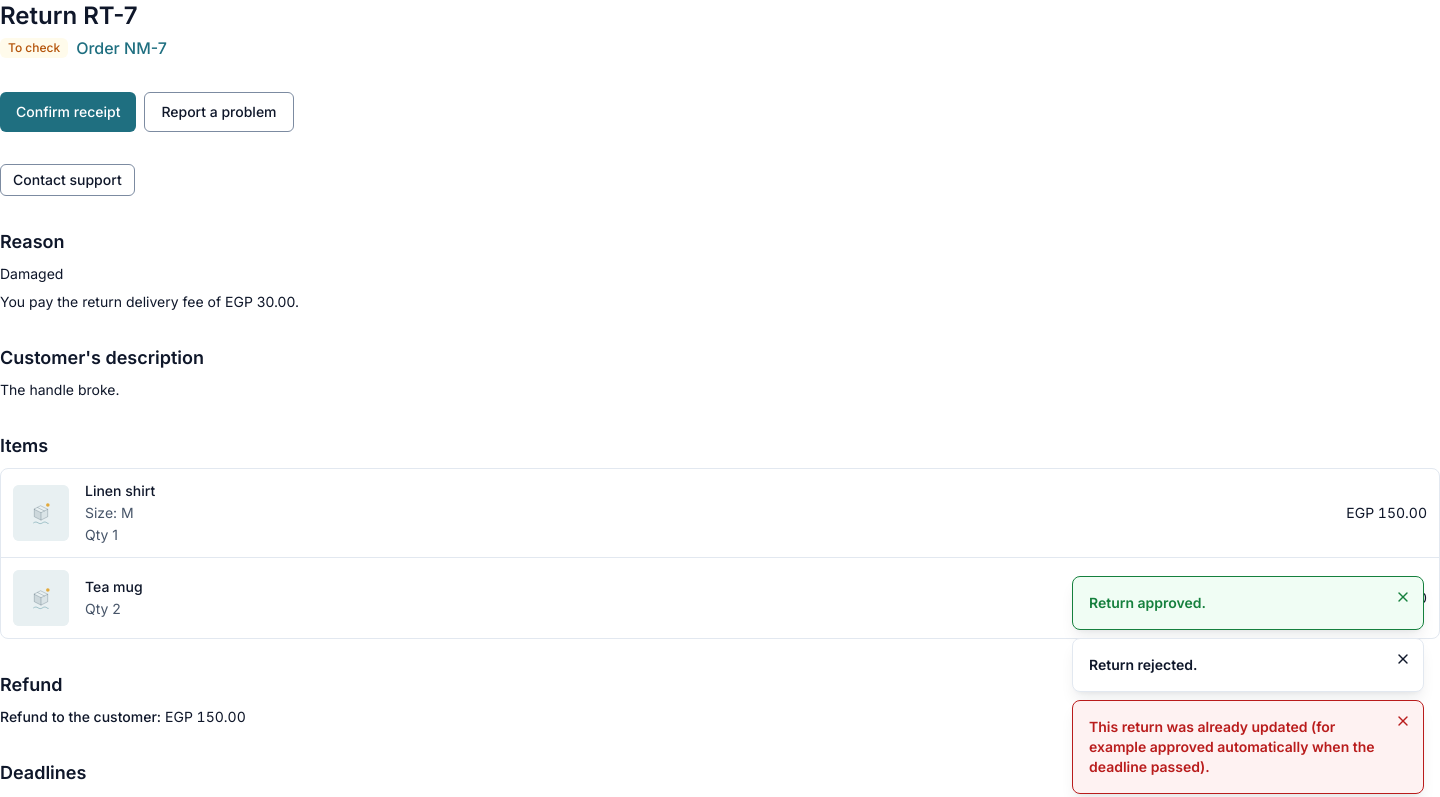
return detail (spec 02 SE-19) › Confirm receipt: every item once, restock on by default; a retry reuses the key
Click the button "Confirm receipt".
click(68, 112)  # box [0,92,136,132]
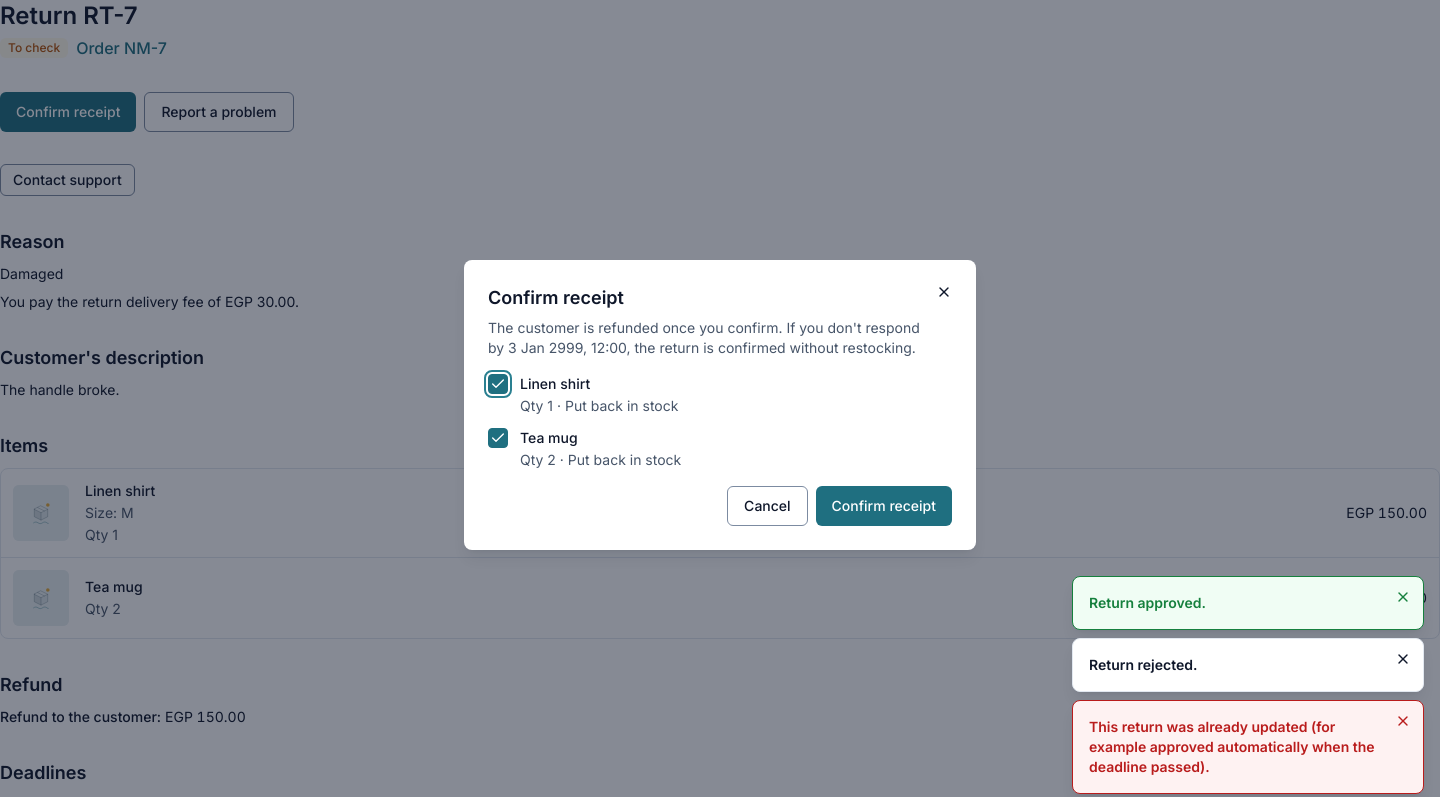
Expected: the text "The customer is refunded once you confirm. If you don't respond by " is shown, [488,319,920,356]
Click the checkbox named "Put Tea mug back in stock".
click(498, 438)  # box [488,428,508,448]
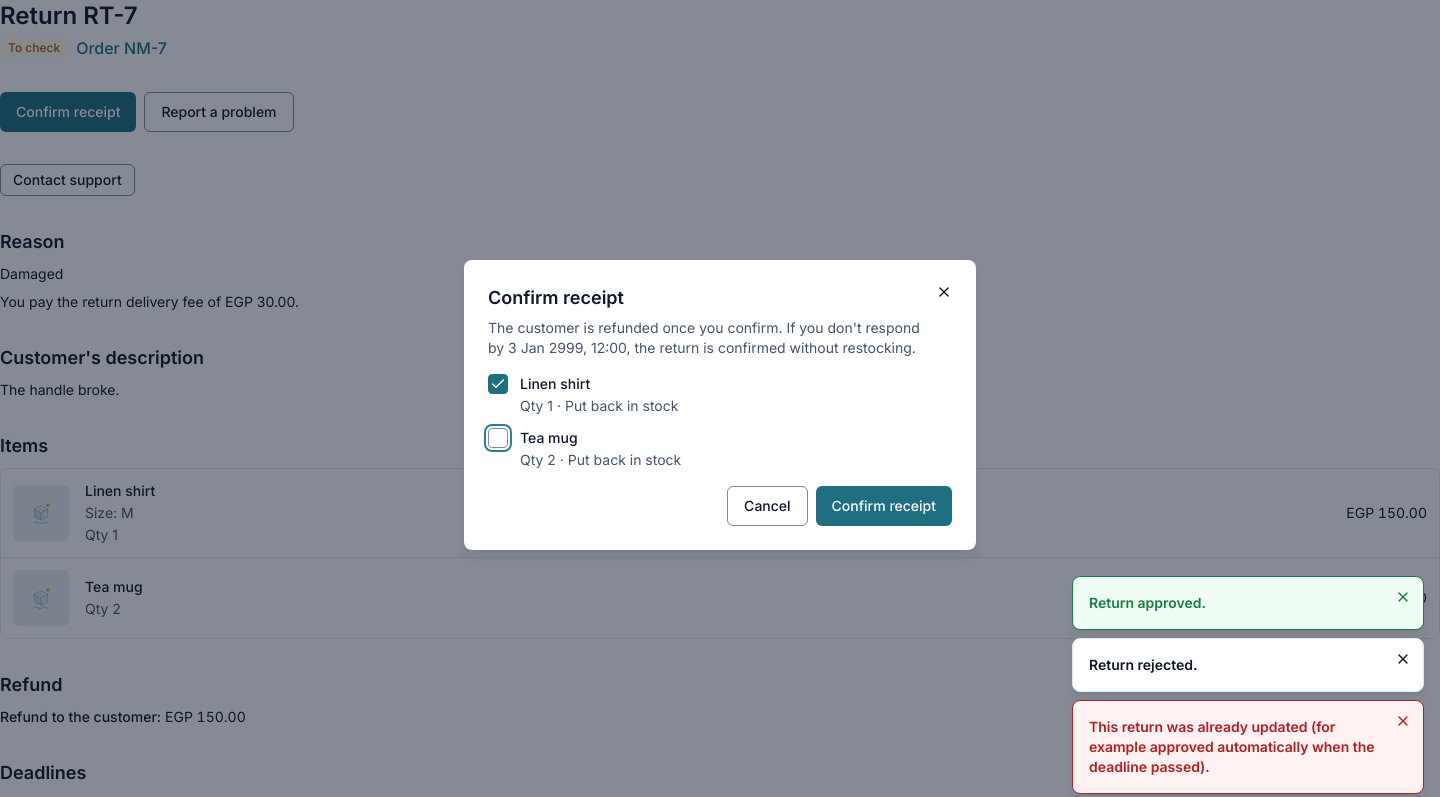
Click the button "Confirm receipt".
click(884, 506)  # box [816,486,952,526]
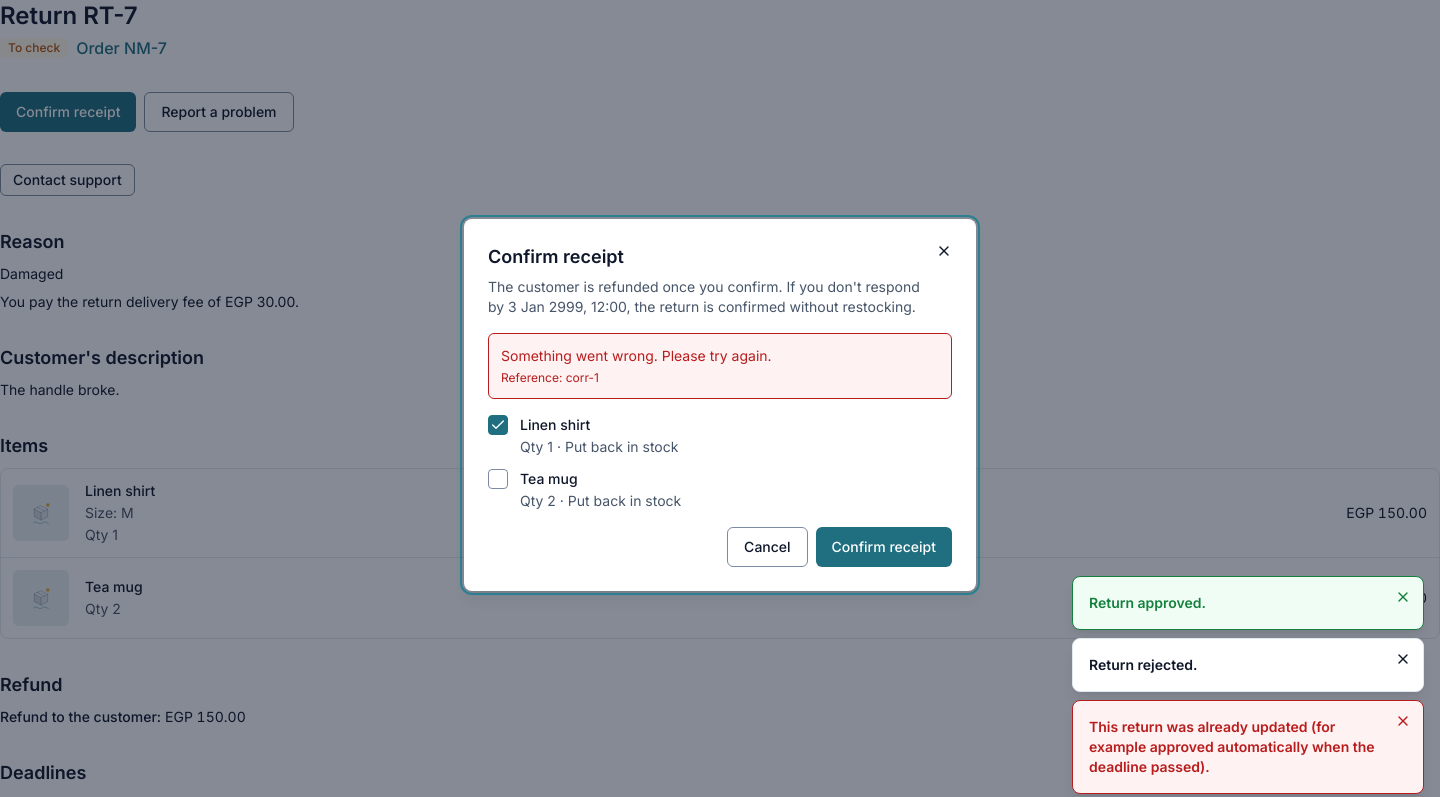
Expected: the message "Something went wrong. Please try again. Reference: corr-1" is shown, [488,333,952,399]
Click the button "Confirm receipt".
click(884, 547)  # box [816,527,952,567]
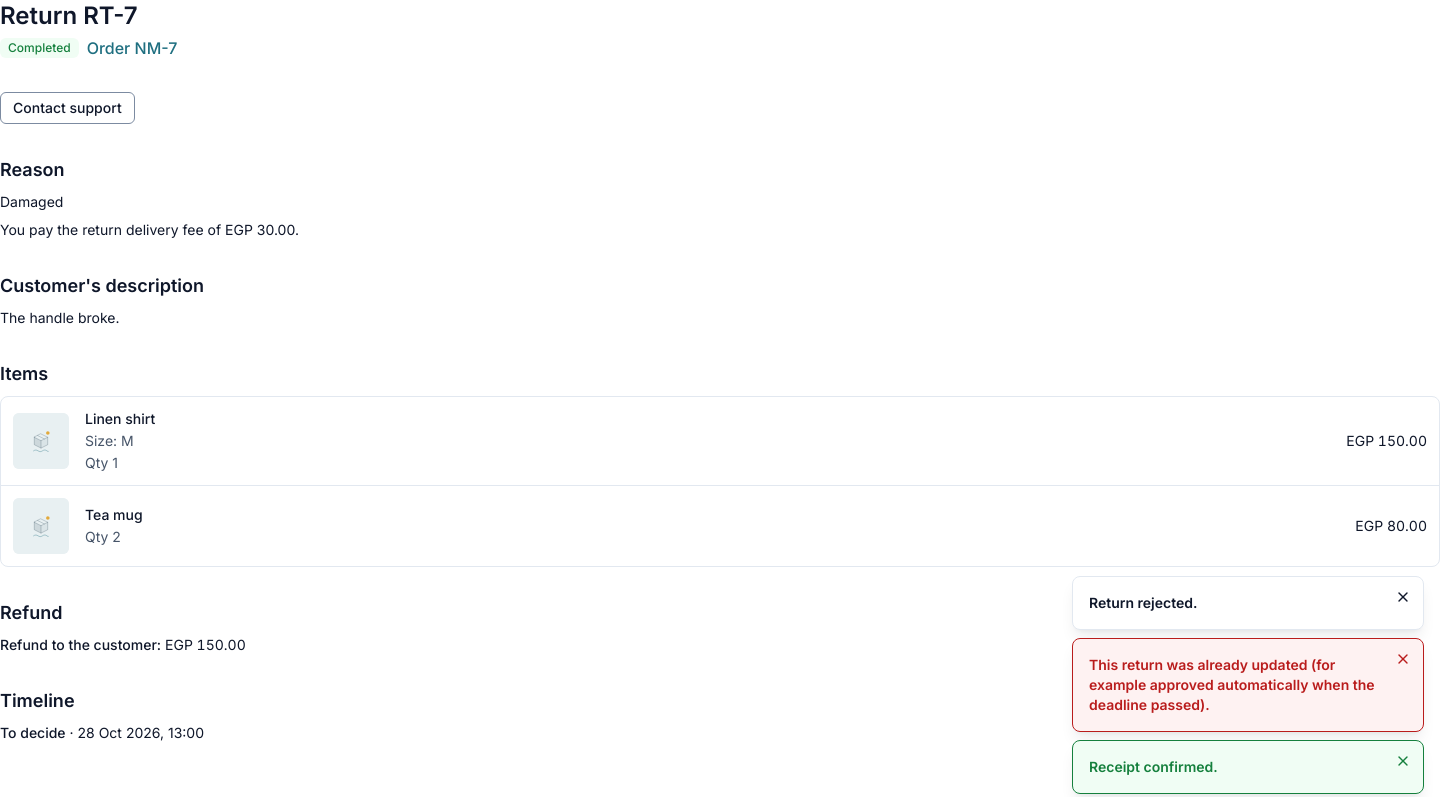
Expected: the text "Receipt confirmed." is shown, [1089,758,1218,775]
